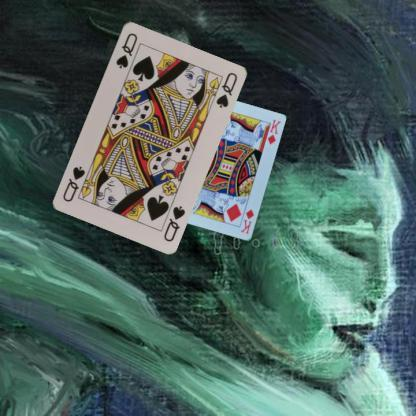Kd: (237, 206, 256, 236)
Qs: (160, 202, 186, 243), (112, 30, 138, 70)
